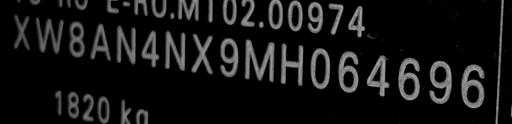letter: (242, 36, 276, 82), (457, 62, 487, 109), (32, 14, 64, 57), (188, 30, 216, 77), (279, 39, 305, 87), (395, 54, 421, 101), (365, 53, 391, 97), (113, 24, 139, 67), (428, 59, 452, 105), (336, 48, 360, 93), (308, 45, 332, 89), (163, 29, 187, 72), (88, 21, 112, 63), (8, 11, 32, 52), (218, 35, 240, 79), (138, 28, 162, 67), (66, 19, 86, 58)
